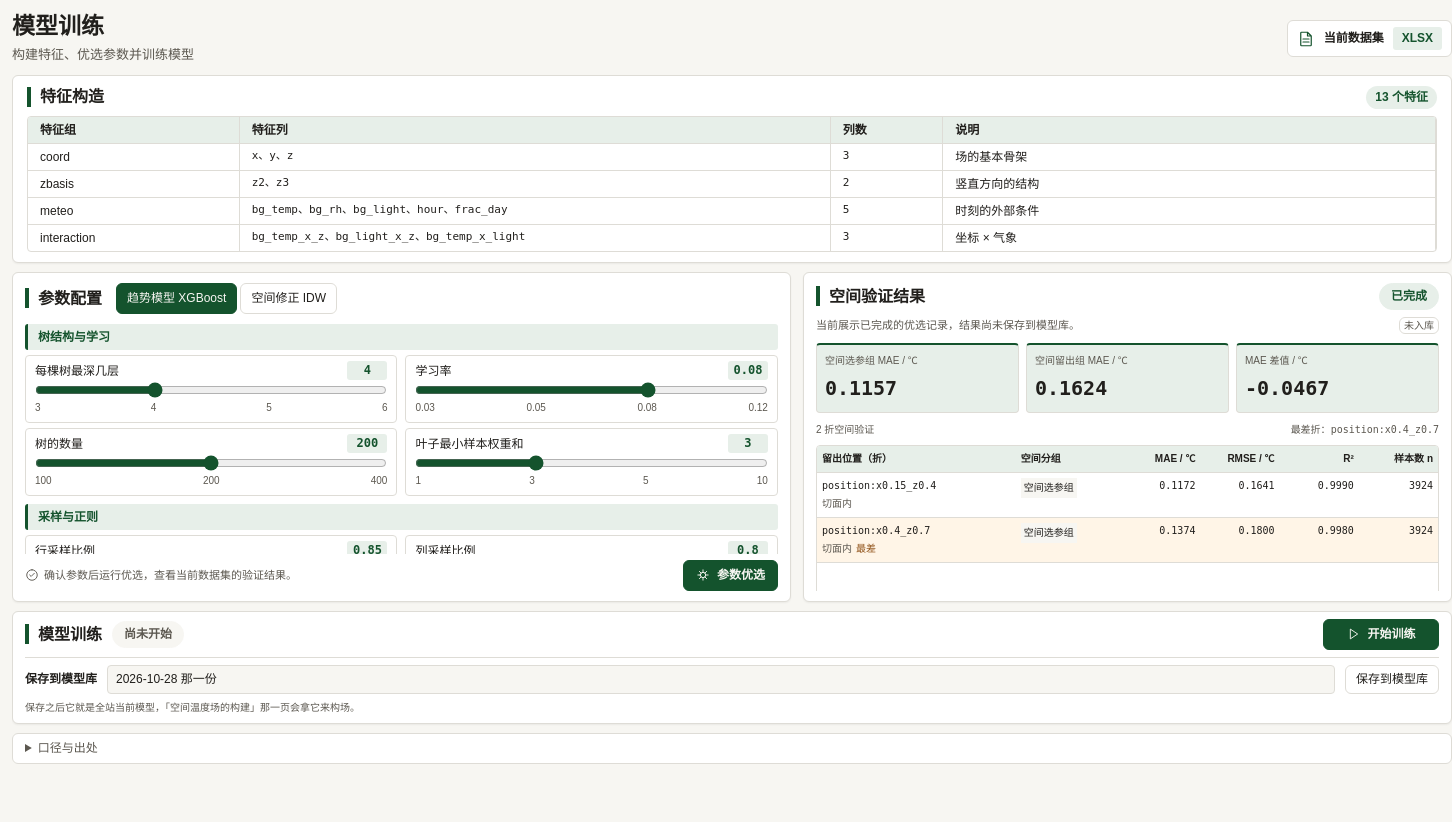
Test case: 保存到模型库 › 保存失败时把后端那句话印出来，不吞掉
Click the button "保存到模型库".
click(1392, 680)  # box [1345,665,1439,694]
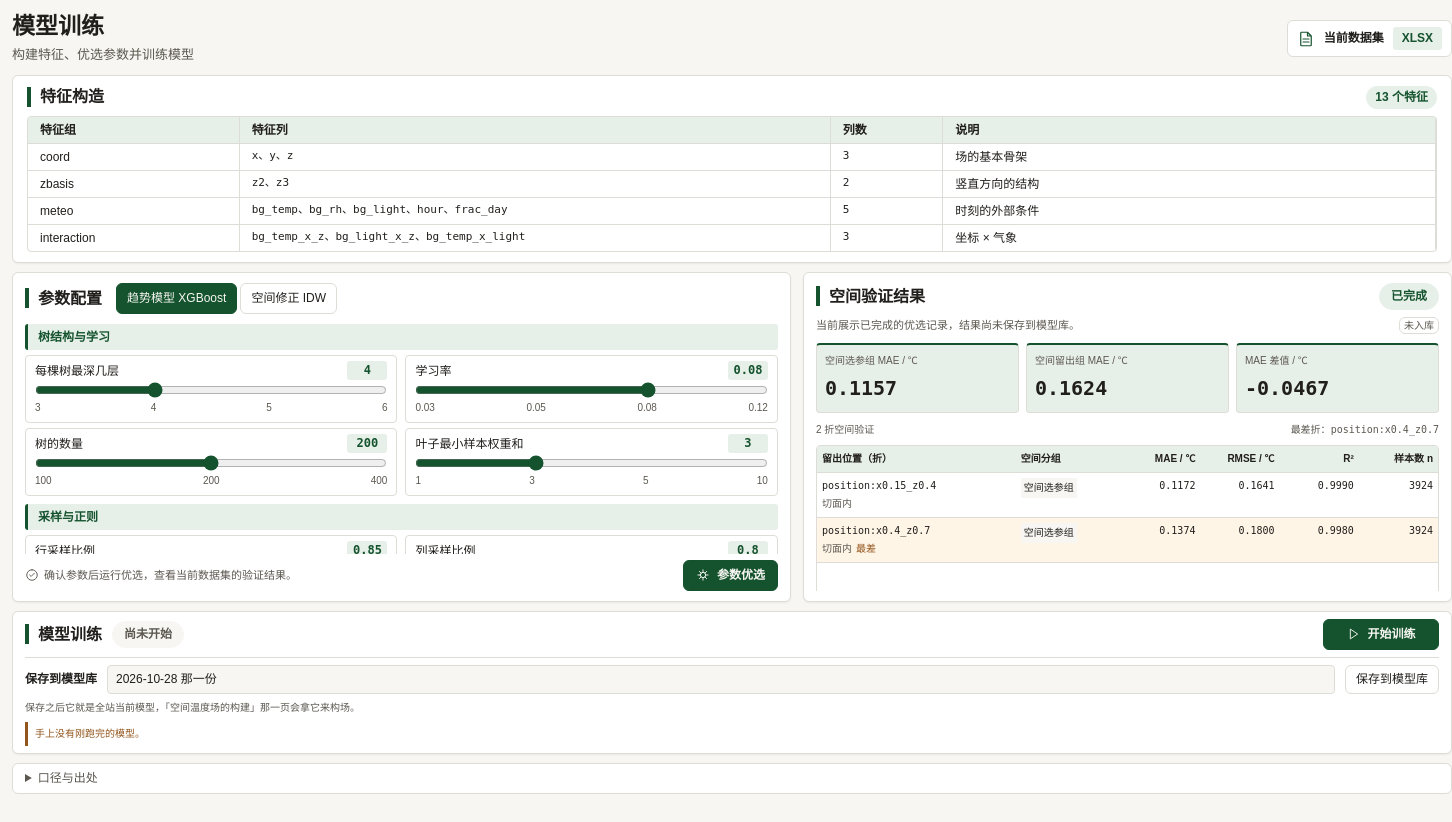
Check: the text "保存到模型库" is shown, box [816,319,1080,331]
Check: the text "手上没有刚跑完的模型。" is shown, box [25,722,1439,746]
